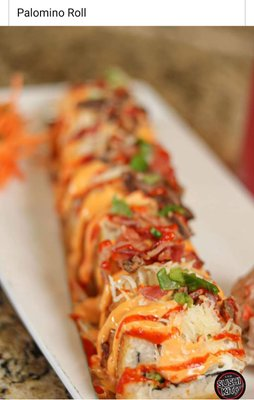sandwich: (49, 75, 247, 398)
